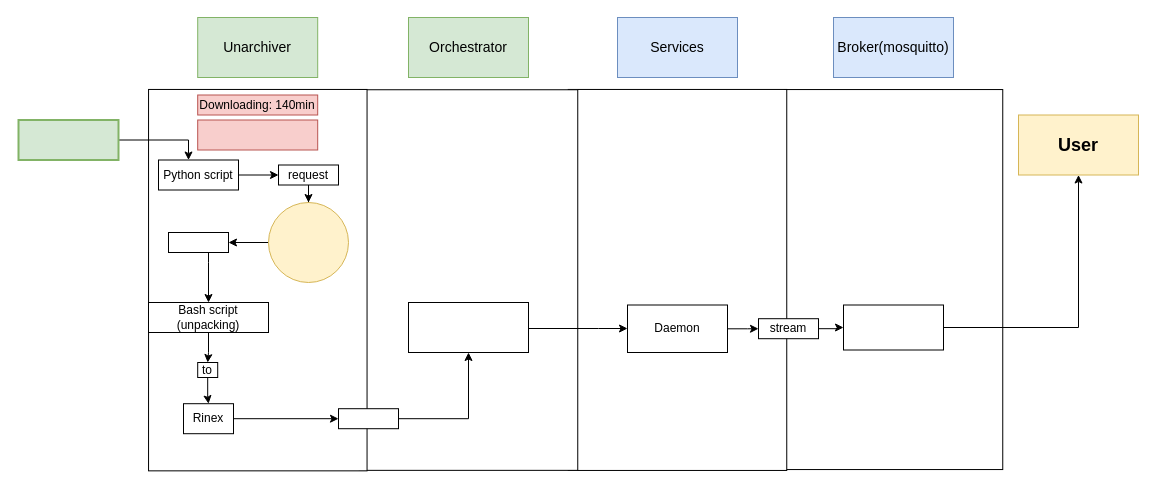
Image size: 1156x489. Some labels were removed from this diagram. Here are the shapes that lost their labels. From the top down, the centre of each, then its label:
At point 68,139: "FastAPI".
At point 257,134: "Unpacking and converting: 10min".
At point 198,242: "zip archive".
At point 308,242: "Simurg".
At point 468,327: "Service generator".
At point 893,327: "Broker (mosquitto)".
At point 368,418: "File name".
